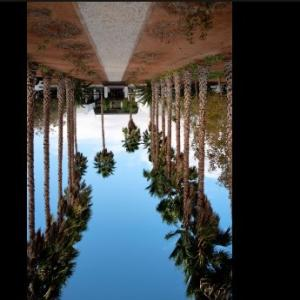palm tree: (138, 61, 232, 299)
